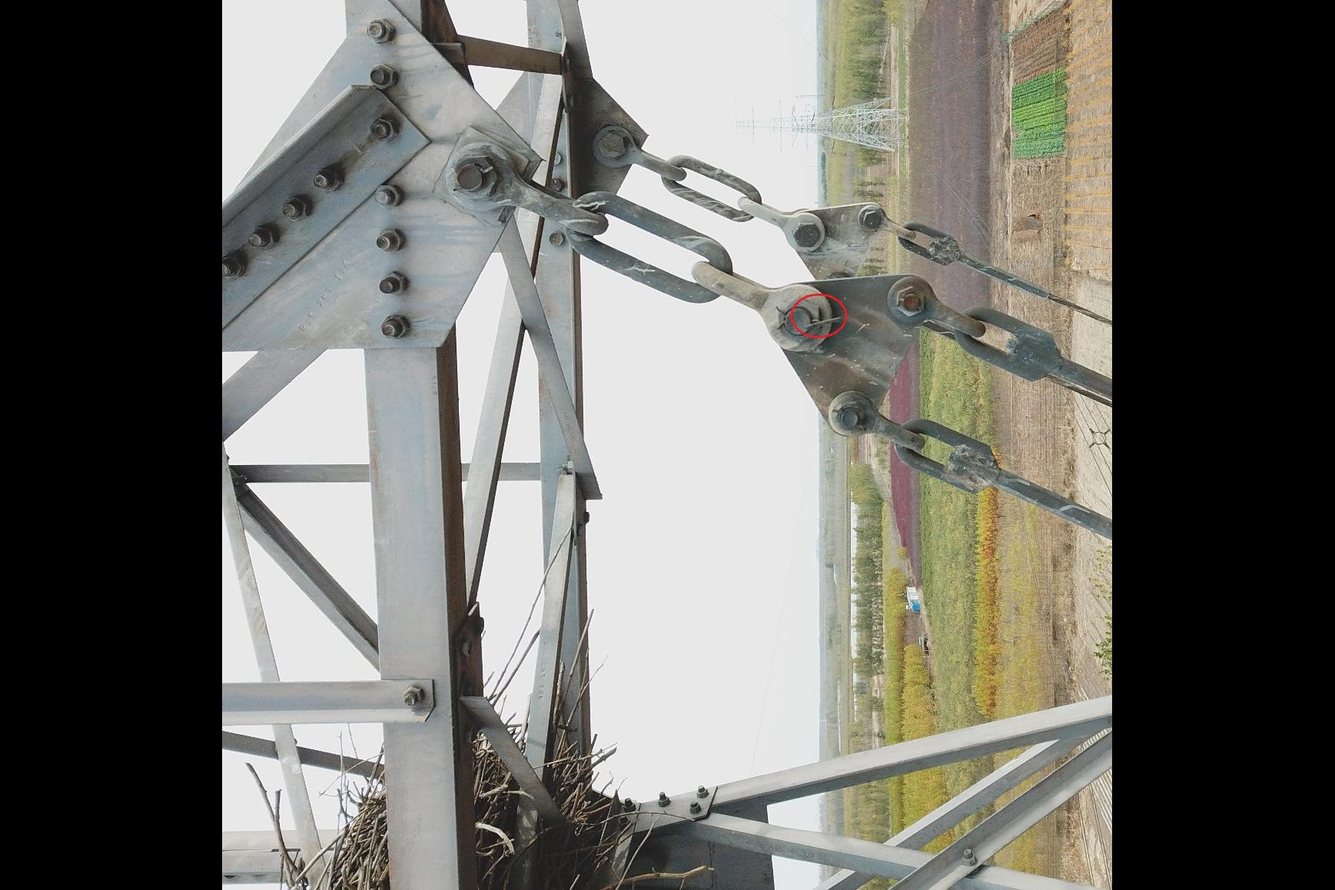nest: (247, 674, 694, 890)
